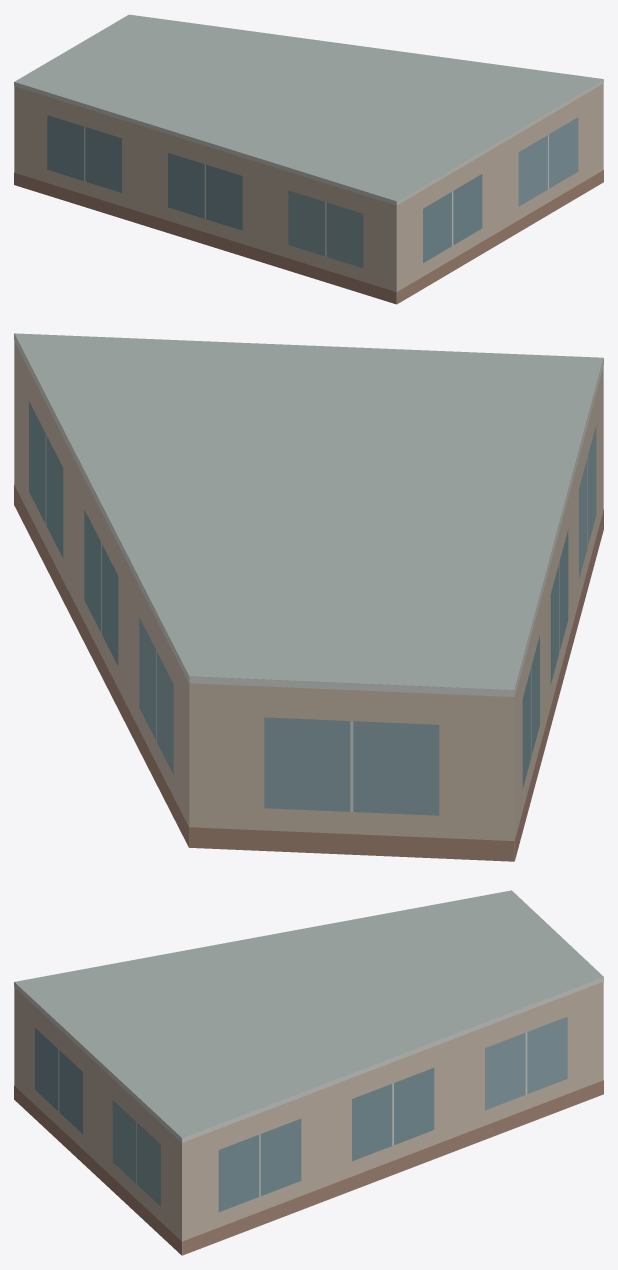
Rendered from survey-upis-32726323.glb.
3 renders of one model, top to bottom at view 1: azimuth 30°, elevation 25°; view 2: azimuth 150°, elevation 25°; view 3: azimuth 270°, elevation 25°, orthographic. The views are drawn at different scales.
Visible parts, largest first — view 1: survey-upis-32726323.tmp; view 2: survey-upis-32726323.tmp; view 3: survey-upis-32726323.tmp.
Part boxes in pixels (<box>): survey-upis-32726323.tmp: <box>14,14,603,304</box>; survey-upis-32726323.tmp: <box>14,333,603,861</box>; survey-upis-32726323.tmp: <box>14,890,603,1255</box>.
Bounding box in the file's own units: 13.8 × 3.05 × 13.87.
